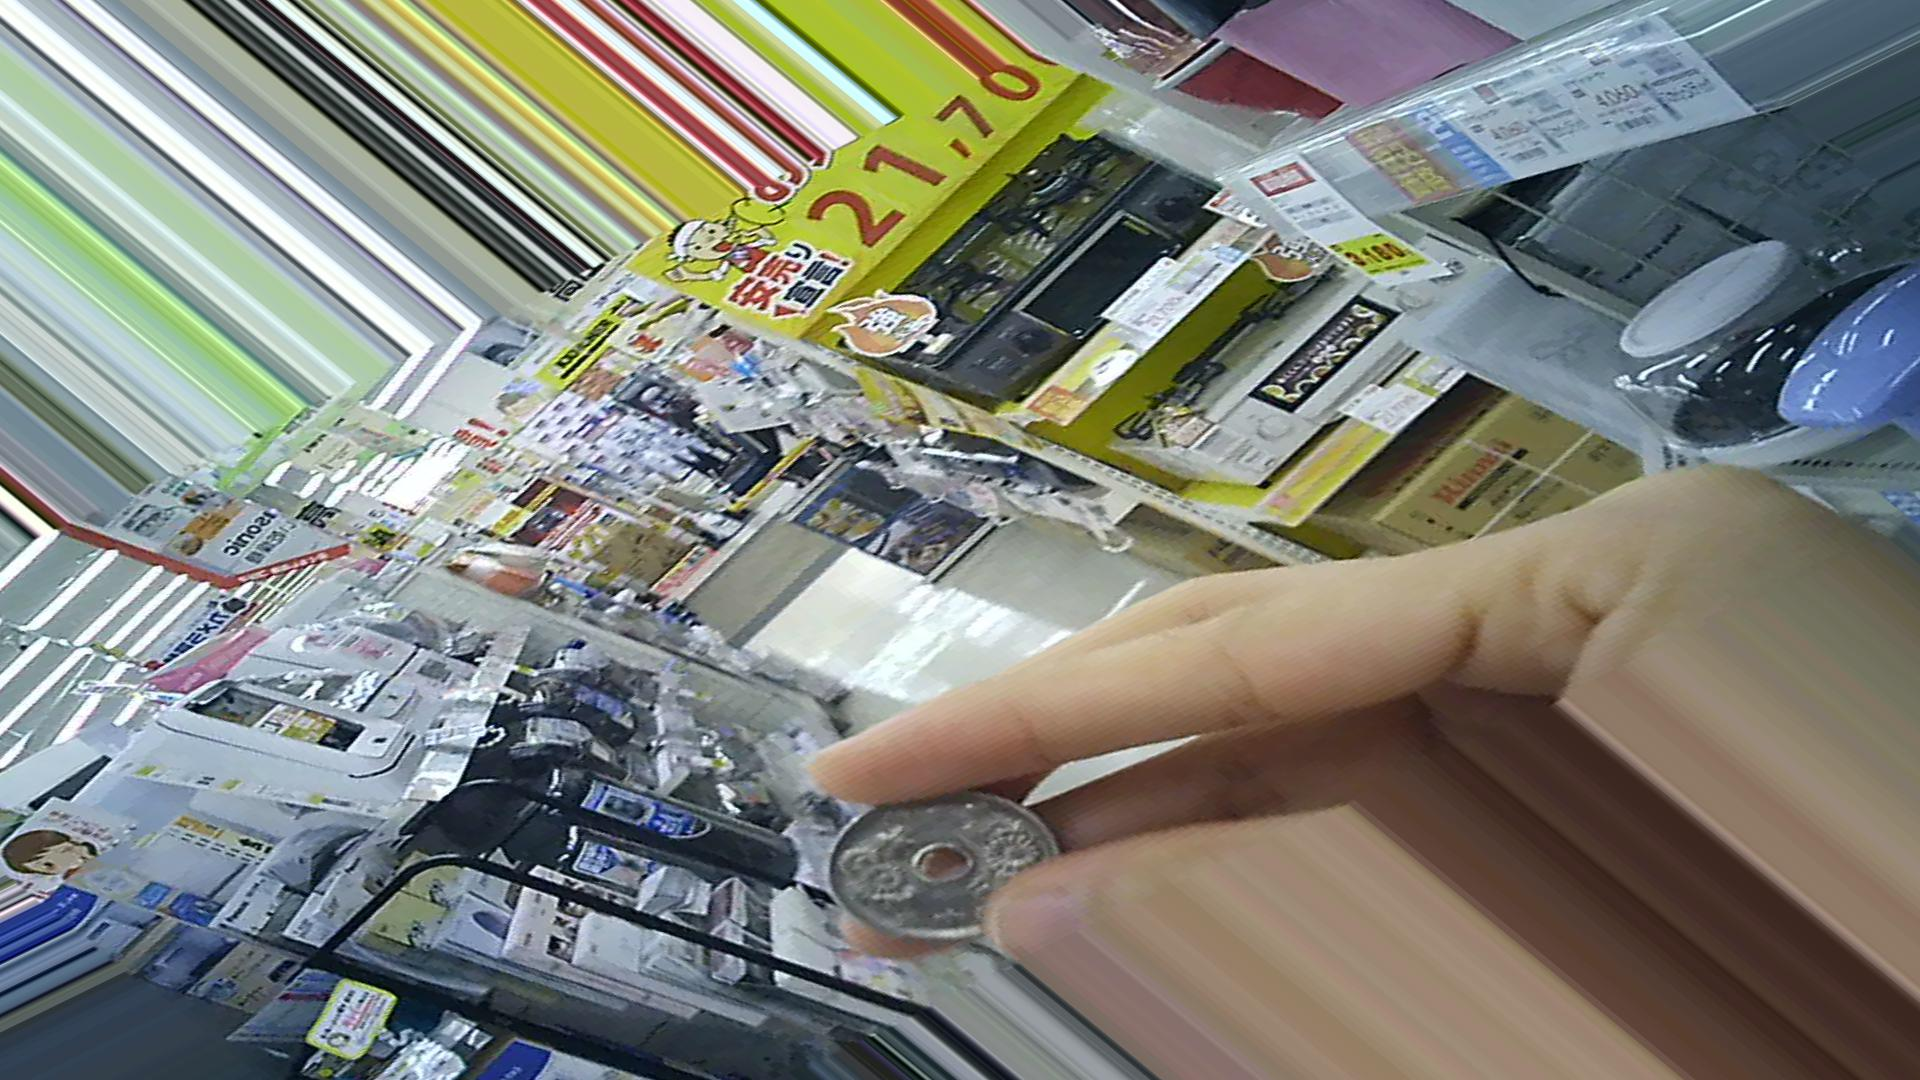50 Yen: (819, 793, 1050, 940)
